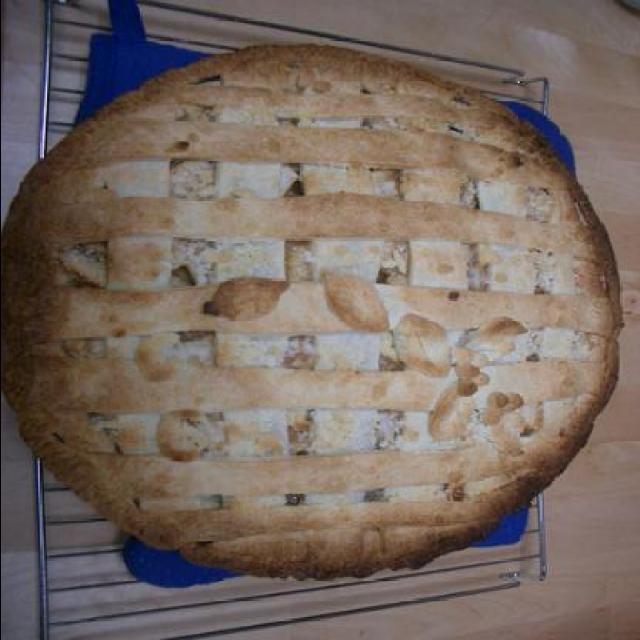Apple: (1, 45, 638, 578)
